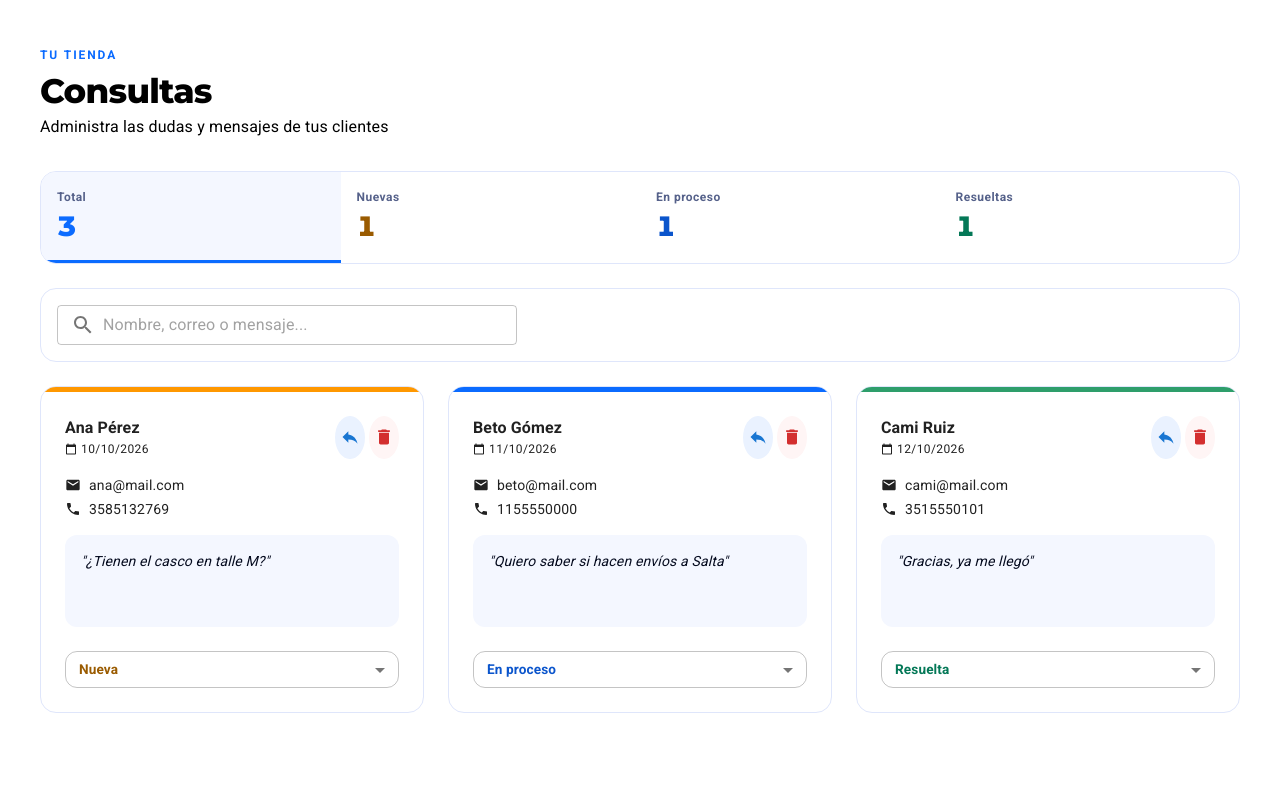
Scenario: Consultas · responder › muestra la consulta original y a quién se responde
Click the button named "Responder a Ana Pérez".
click(350, 437)  # box [335,416,365,459]
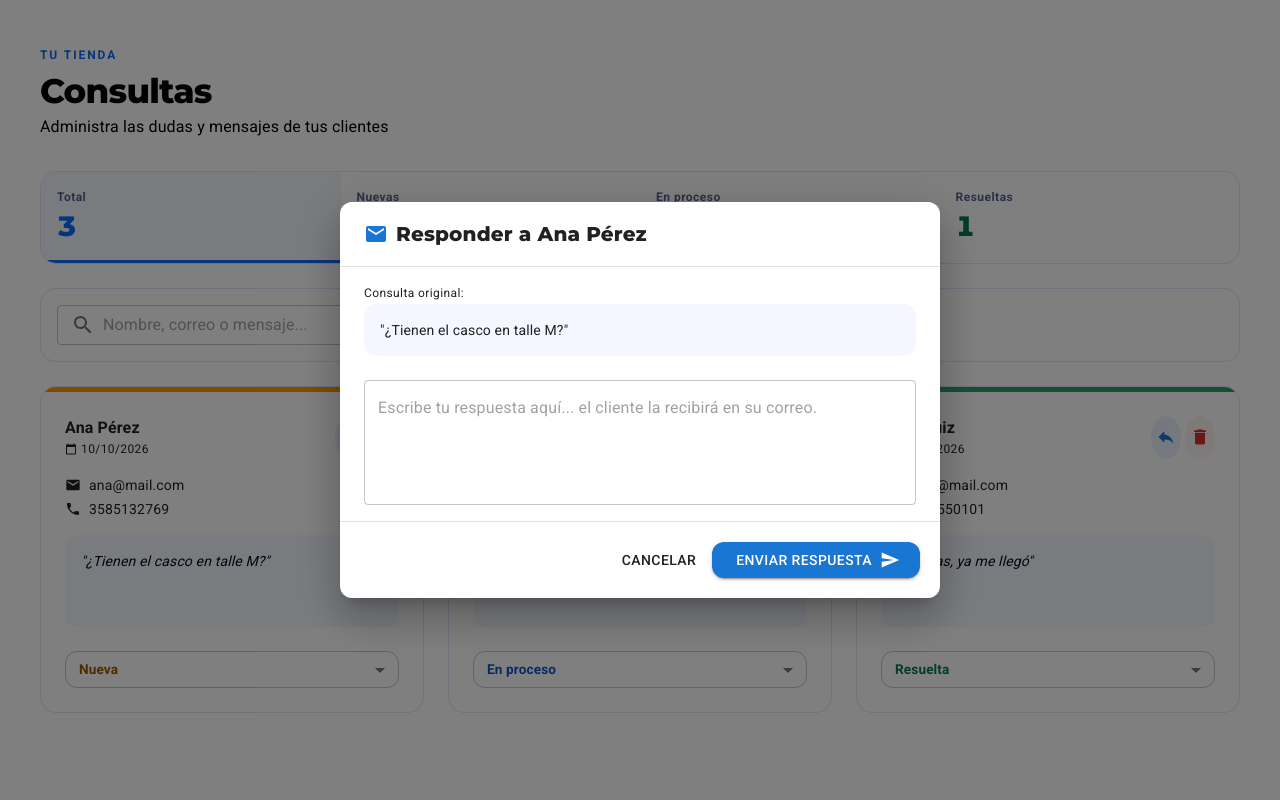
Now the heading "Responder a Ana Pérez" is shown, box [364,222,647,246]
Now the text "\"¿Tienen el casco en talle M?\"" is shown, box [364,304,916,356]
